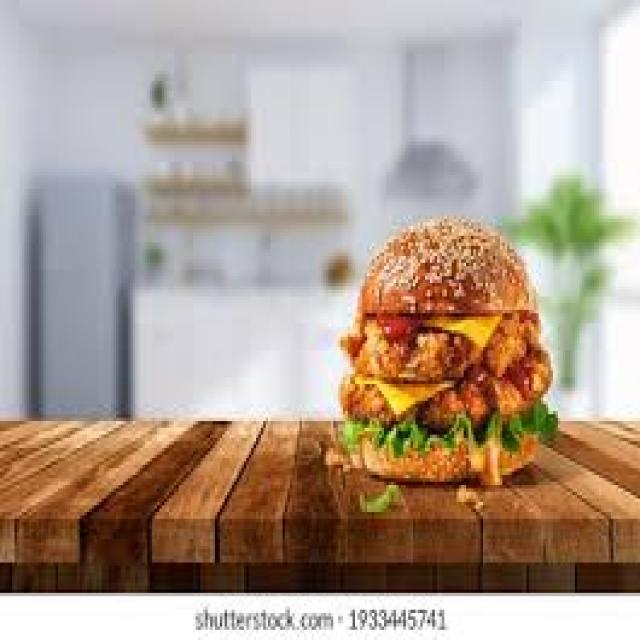Burger: (350, 224, 562, 510)
